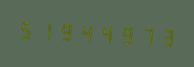five: (17, 15, 36, 43)
four: (77, 18, 96, 46), (97, 20, 116, 47)
nine: (57, 17, 76, 45), (117, 21, 136, 49)
one: (37, 16, 56, 44)
seven: (137, 22, 156, 50)
three: (157, 23, 176, 51)
